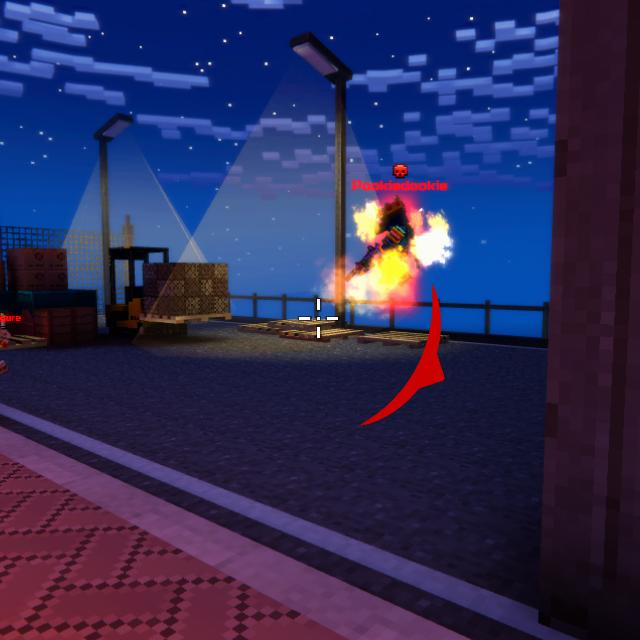Enemy: (375, 202, 419, 294)
